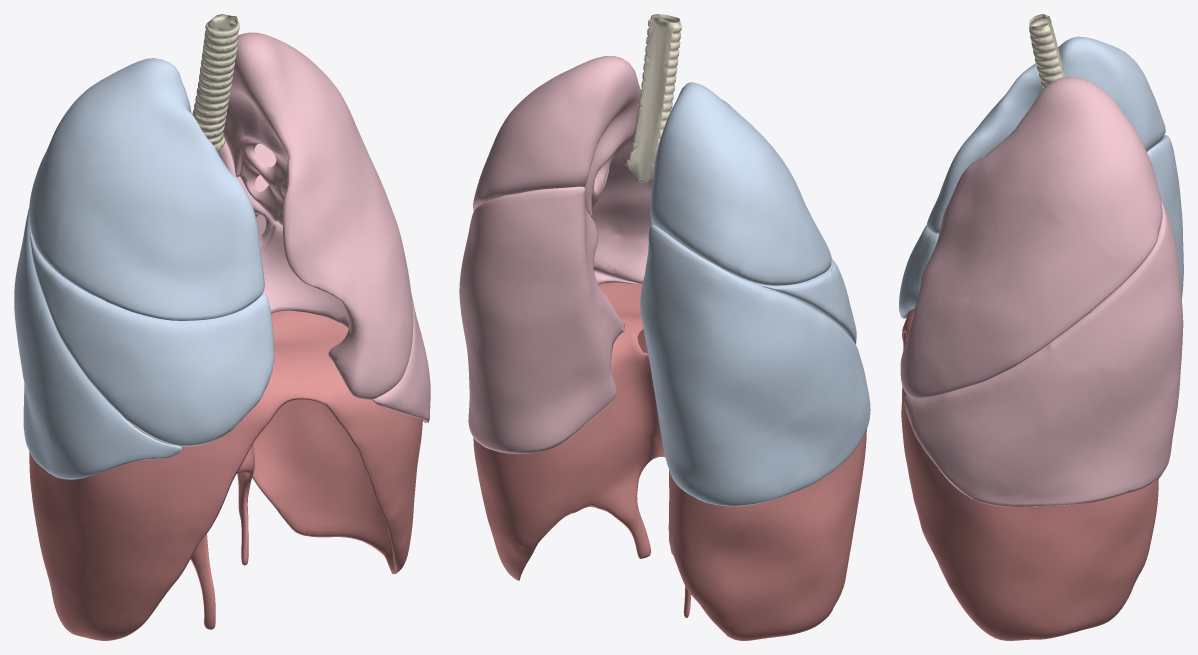
File: lungs.glb
The picture shows the model from 3 angles, left to right: view 1: azimuth 30°, elevation 25°; view 2: azimuth 150°, elevation 25°; view 3: azimuth 270°, elevation 25°; orthographic projection. The views are drawn at different scales.
Parts seen in each view (by area): view 1: Diaphragm.001, Superior lobe of right lung.001, Superior lobe of left lung.001, Middle lobe of right lung.001, Inferior lobe of right lung.001, Inferior lobe of left lung.001, Trachea.001; view 2: Diaphragm.001, Inferior lobe of right lung.001, Inferior lobe of left lung.001, Superior lobe of right lung.001, Superior lobe of left lung.001, Trachea.001, Middle lobe of right lung.001; view 3: Superior lobe of left lung.001, Inferior lobe of left lung.001, Diaphragm.001, Superior lobe of right lung.001, Inferior lobe of right lung.001, Trachea.001, Middle lobe of right lung.001.
Part boxes in pixels (left/top/right/bottom): Diaphragm.001: left=29, top=310, right=422, bottom=640; Superior lobe of right lung.001: left=29, top=58, right=264, bottom=320; Superior lobe of left lung.001: left=223, top=32, right=413, bottom=399; Middle lobe of right lung.001: left=29, top=232, right=274, bottom=446; Inferior lobe of right lung.001: left=14, top=208, right=181, bottom=479; Inferior lobe of left lung.001: left=218, top=141, right=430, bottom=422; Trachea.001: left=192, top=14, right=239, bottom=152; Diaphragm.001: left=473, top=282, right=866, bottom=640; Inferior lobe of right lung.001: left=640, top=224, right=870, bottom=506; Inferior lobe of left lung.001: left=459, top=186, right=637, bottom=454; Superior lobe of right lung.001: left=650, top=82, right=831, bottom=285; Superior lobe of left lung.001: left=473, top=56, right=652, bottom=283; Trachea.001: left=625, top=14, right=681, bottom=183; Middle lobe of right lung.001: left=753, top=258, right=856, bottom=344; Superior lobe of left lung.001: left=900, top=77, right=1162, bottom=398; Inferior lobe of left lung.001: left=904, top=199, right=1183, bottom=506; Diaphragm.001: left=901, top=308, right=1158, bottom=640; Superior lobe of right lung.001: left=927, top=36, right=1165, bottom=233; Inferior lobe of right lung.001: left=1147, top=135, right=1183, bottom=299; Trachea.001: left=1029, top=14, right=1065, bottom=88; Middle lobe of right lung.001: left=899, top=225, right=938, bottom=318.
Bounding box in the file's own units: 1.62 × 2.6 × 1.15.
